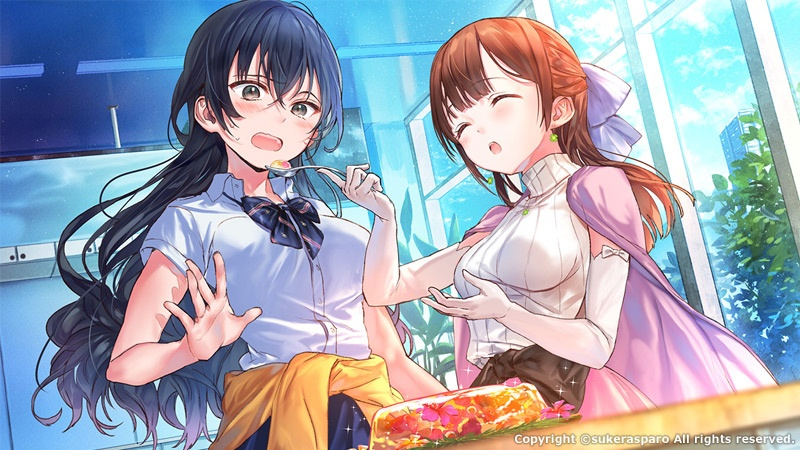纸片人正脸: (165, 0, 354, 175), (422, 10, 598, 178)
